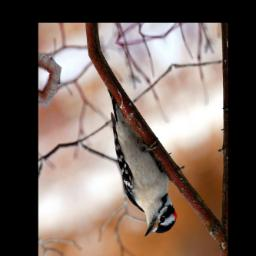Woodpecker: (95, 74, 185, 244)
